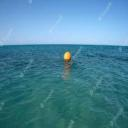yellow: (64, 52, 71, 61)
